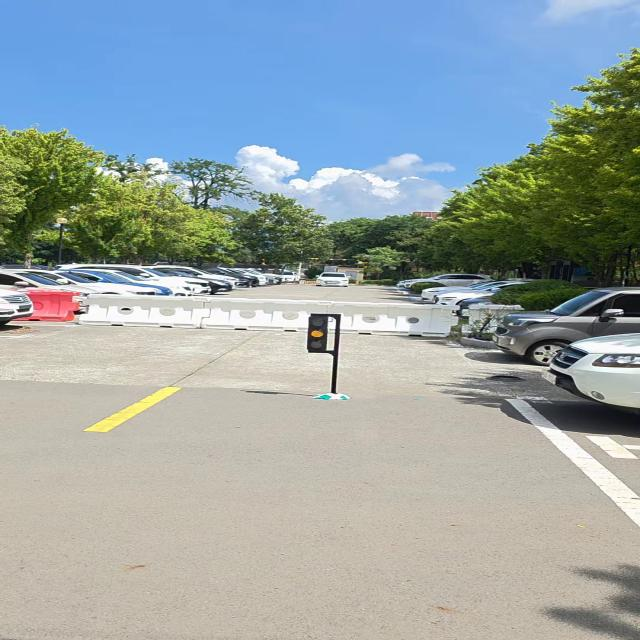yellow: (307, 315, 329, 352)
